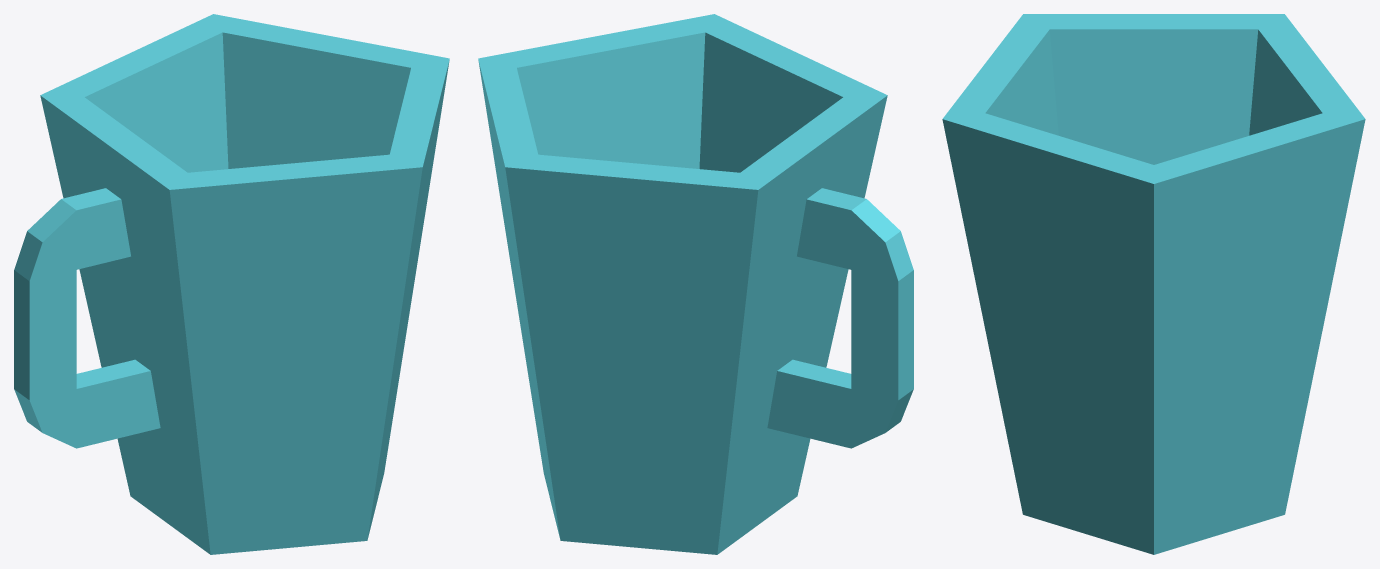
File: cup_empty_handle_3.fbx
3 renders of one model, left to right at view 1: azimuth 30°, elevation 25°; view 2: azimuth 150°, elevation 25°; view 3: azimuth 270°, elevation 25°, orthographic.
Parts seen in each view (by area): view 1: cup_empty_handle_3; view 2: cup_empty_handle_3; view 3: cup_empty_handle_3.
Part boxes in pixels (bbox=[...]): cup_empty_handle_3: bbox=[14, 14, 449, 554]; cup_empty_handle_3: bbox=[478, 14, 913, 554]; cup_empty_handle_3: bbox=[942, 14, 1365, 554].
Size of the model in its own units: 0.7502 by 0.6685 by 0.6358.
